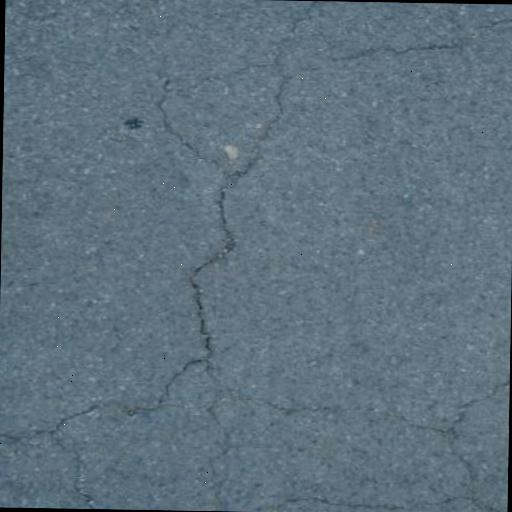spalling: (4, 8, 337, 453), (142, 44, 272, 182)
